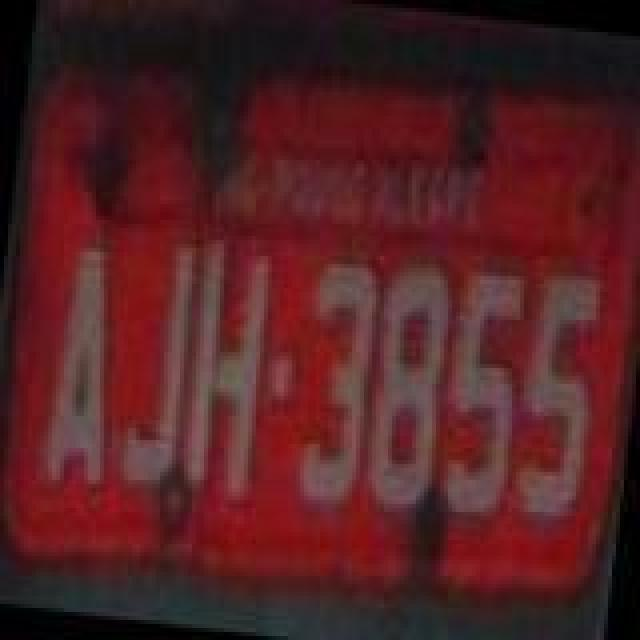3: (288, 252, 384, 516)
5: (434, 266, 534, 526), (506, 262, 606, 522)
8: (356, 260, 460, 524)
A: (42, 240, 134, 504)
H: (172, 236, 276, 508)
J: (114, 228, 206, 492)
